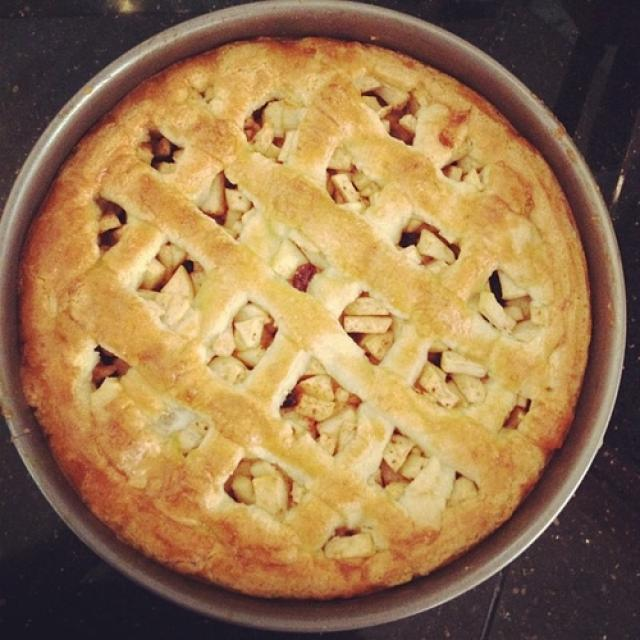炸货点心: (8, 18, 602, 608)
蛋糕甜品: (8, 18, 602, 608)
